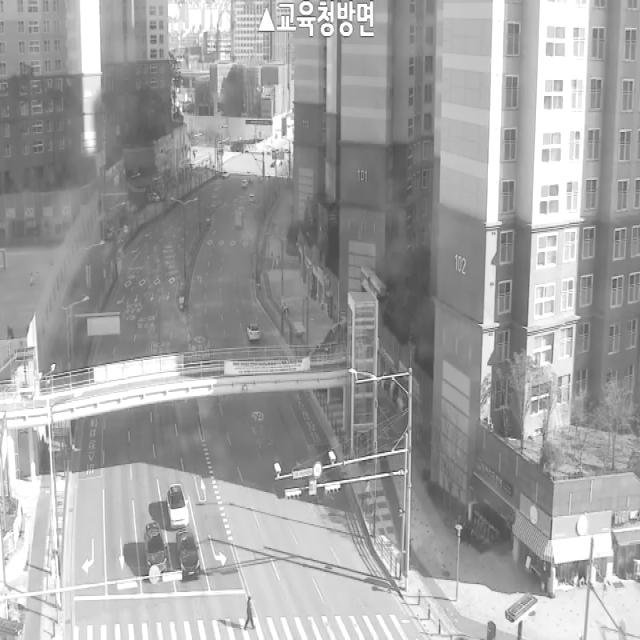Car: (144, 523, 167, 575), (176, 530, 200, 576), (167, 485, 188, 528), (247, 324, 260, 342), (248, 194, 256, 204)
Truck: (235, 206, 246, 229)
